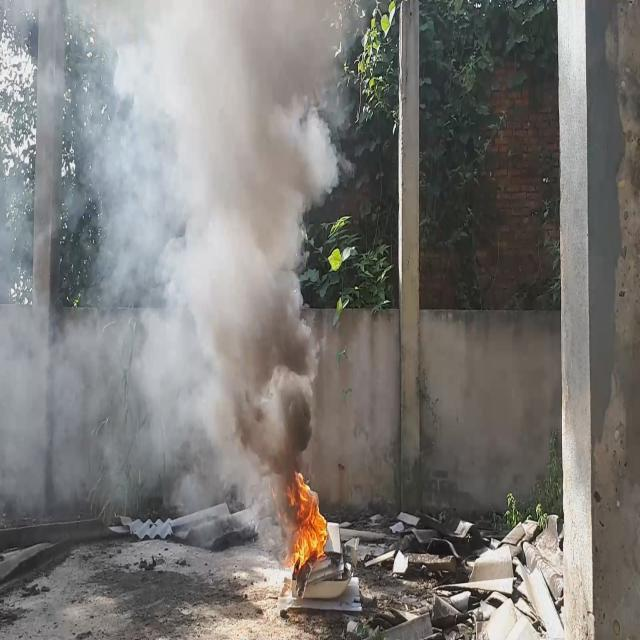Fire: (286, 462, 330, 578)
Smoke: (0, 0, 341, 531)
